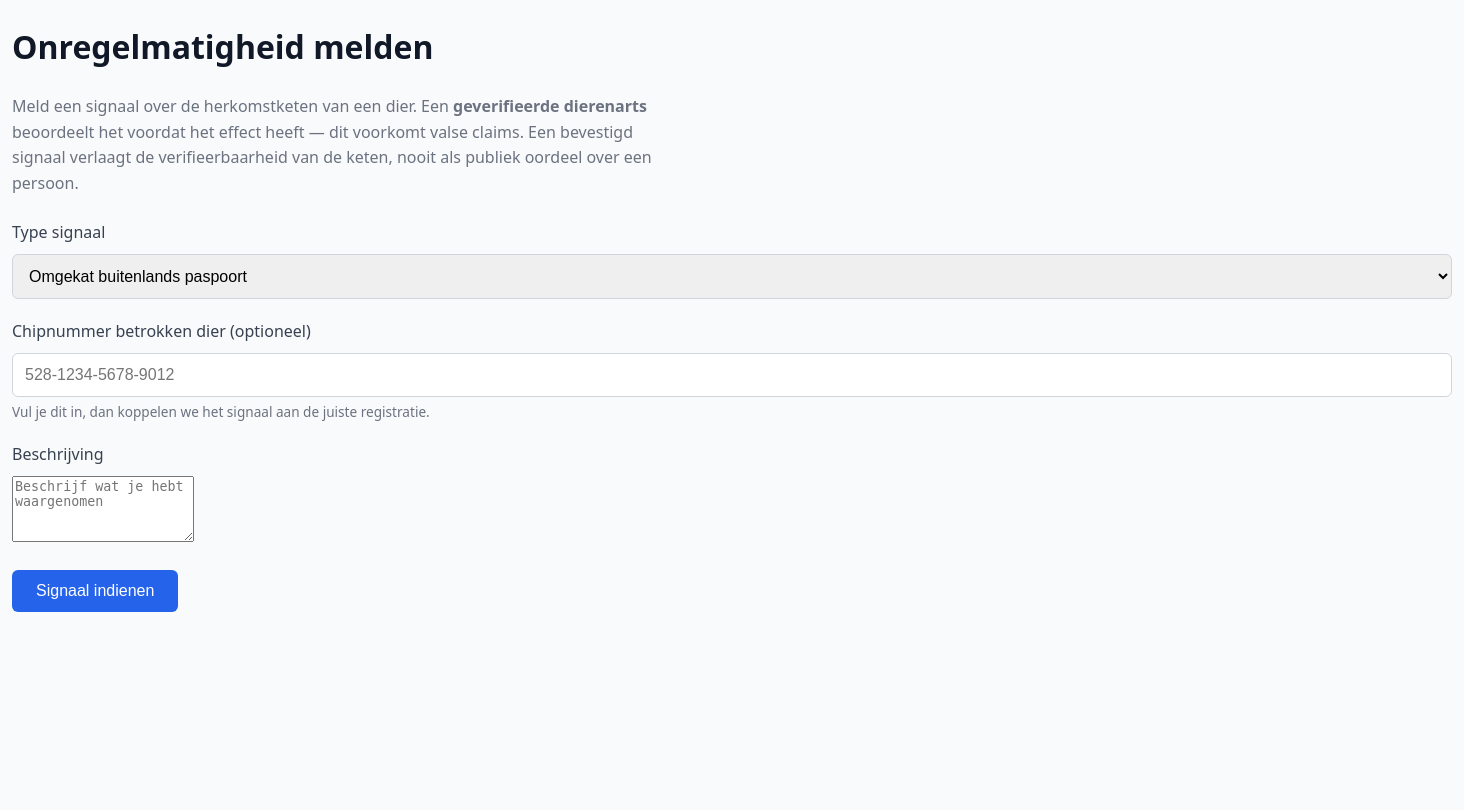
ReportSignal › blocks submit without a description
The width and height of the screenshot is (1464, 810).
Click the button "Signaal indienen" at (95, 591), box [12,570,178,612]
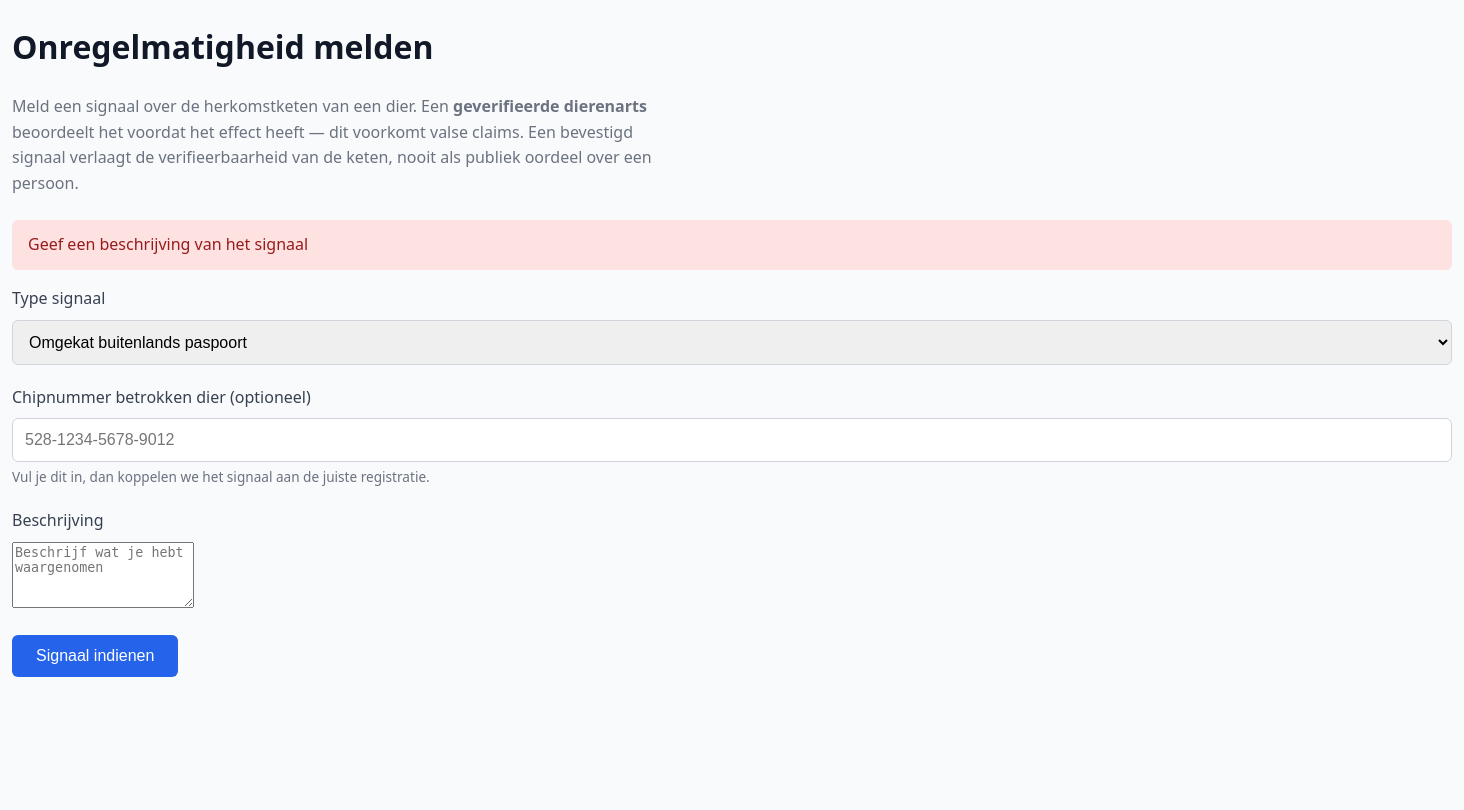
Expected: the text "Geef een beschrijving van het signaal" is shown, [12,220,1452,270]
